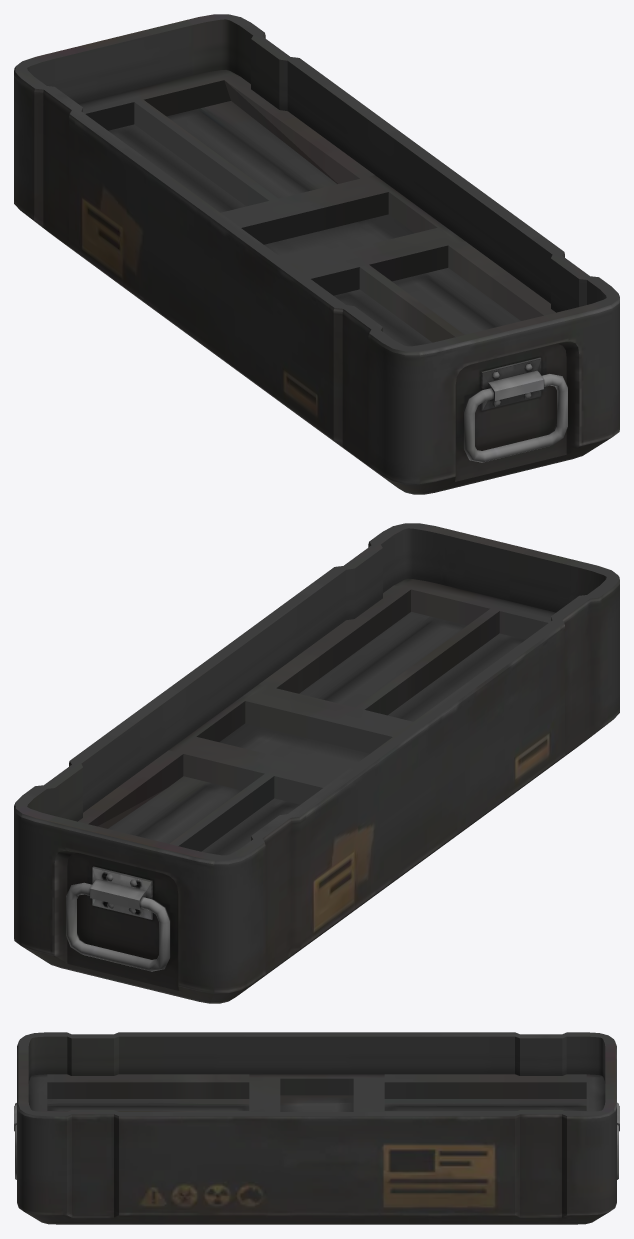
The picture shows the model from 3 angles, top to bottom: view 1: azimuth 30°, elevation 25°; view 2: azimuth 150°, elevation 25°; view 3: azimuth 270°, elevation 25°; orthographic projection. The views are drawn at different scales.
Parts seen in each view (by area): view 1: body0_model0_lod0_mesh0; view 2: body0_model0_lod0_mesh0; view 3: body0_model0_lod0_mesh0.
Boxes of the visible parts, x1,y1,x2,y2 form: body0_model0_lod0_mesh0: (14,14,619,494); body0_model0_lod0_mesh0: (14,523,619,1003); body0_model0_lod0_mesh0: (14,1032,619,1224).
Bounding box in the file's own units: 40.03 × 25.75 × 121.
Materials: 1 (1 with a texture image).
